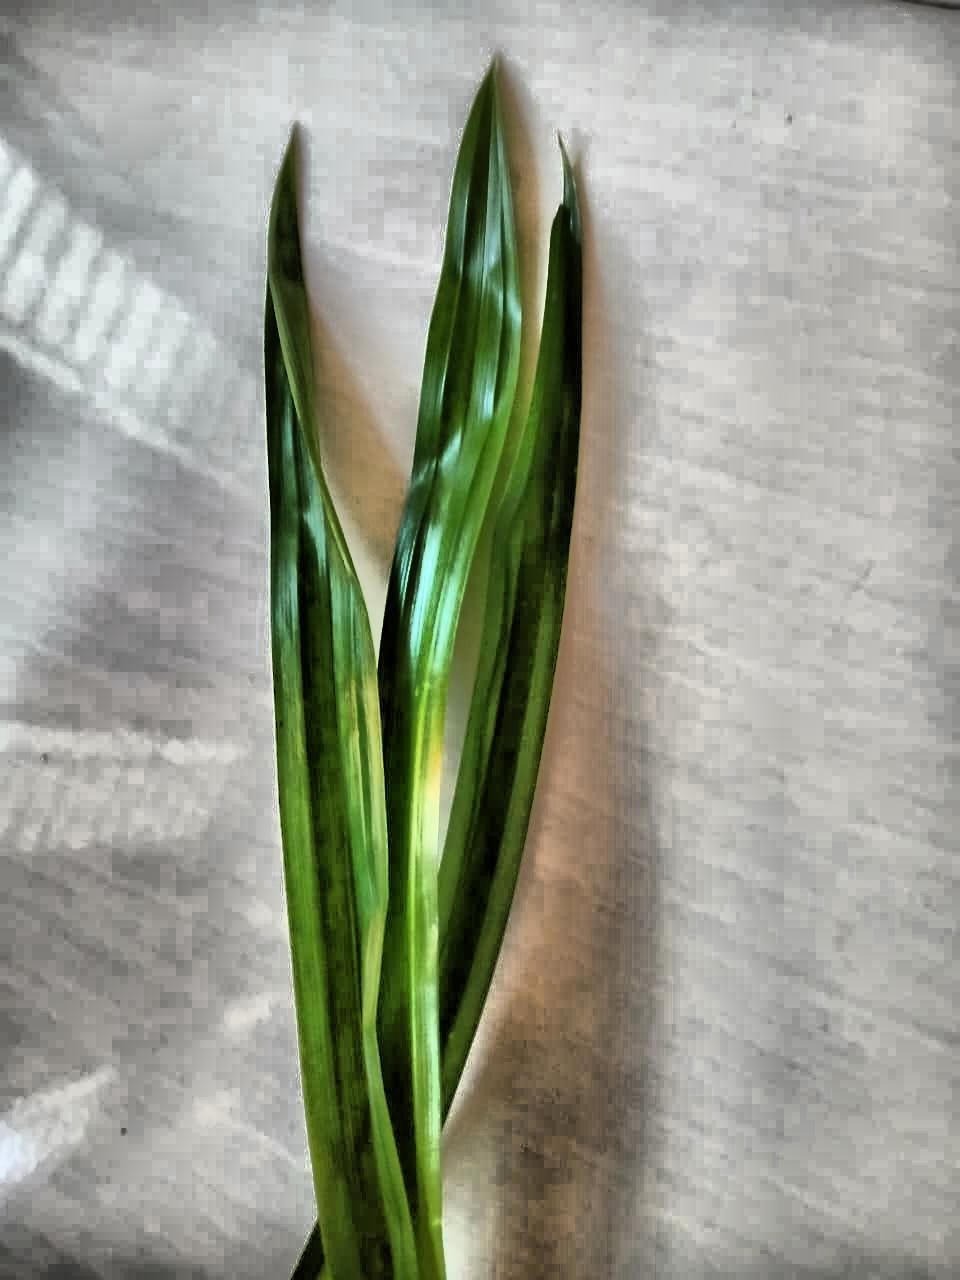daun pandan: (264, 65, 581, 1279)
